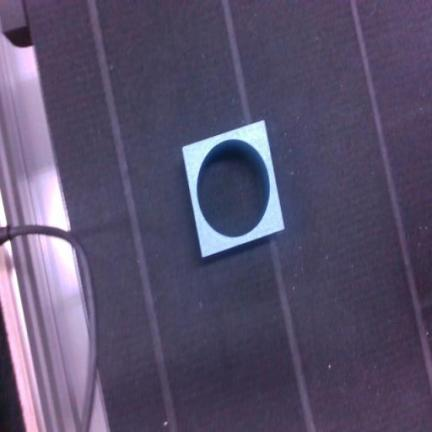hole: (198, 141, 268, 237)
